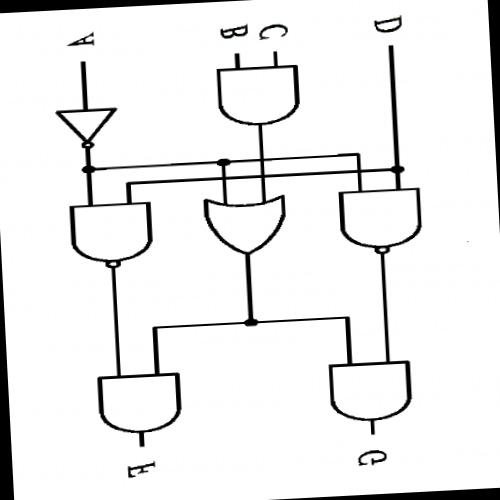and: (90, 369, 189, 438), (209, 62, 306, 130), (321, 357, 415, 427)
nand: (329, 183, 428, 260), (61, 198, 157, 274)
not: (47, 104, 123, 154)
or: (194, 192, 294, 262)
